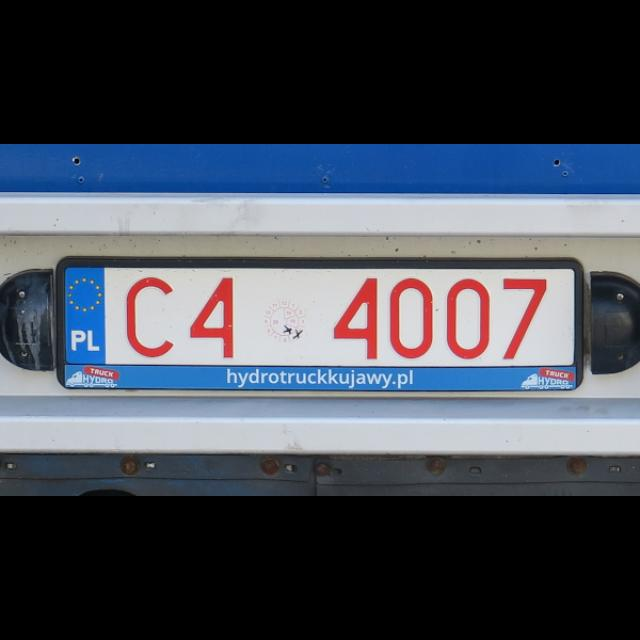pl_license_plate: (64, 267, 572, 363)
